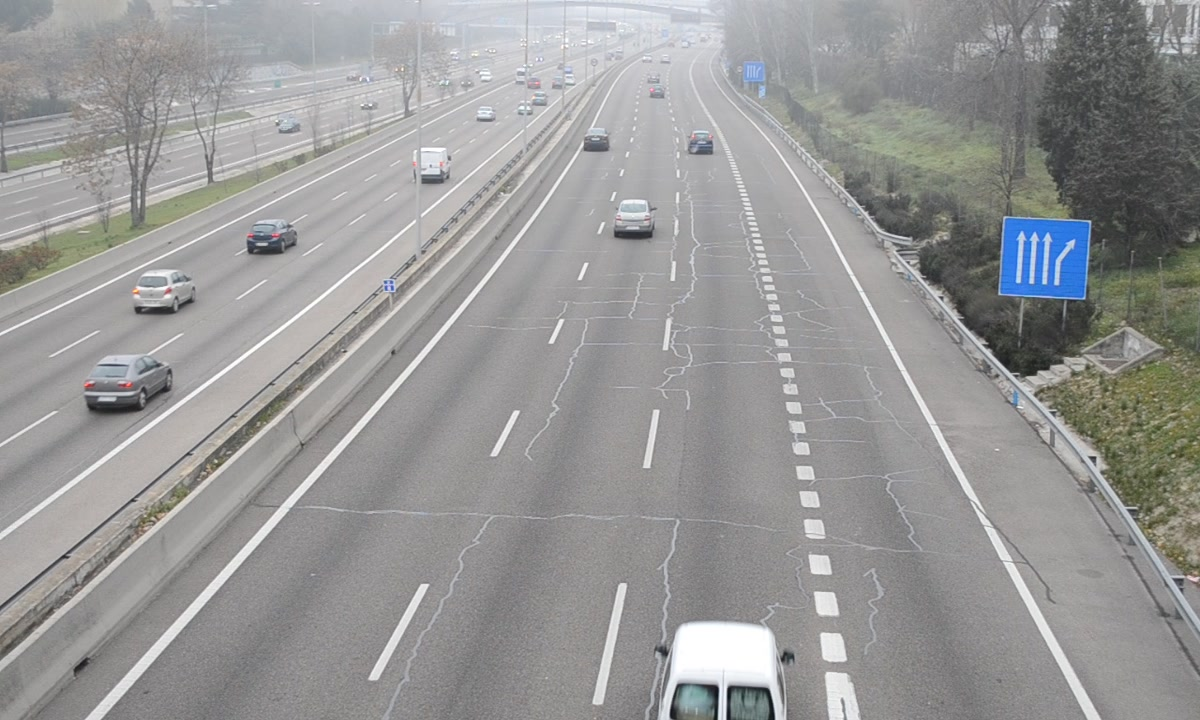car: (614, 199, 653, 236), (583, 128, 610, 153), (687, 130, 713, 154)
van: (656, 620, 788, 720)
